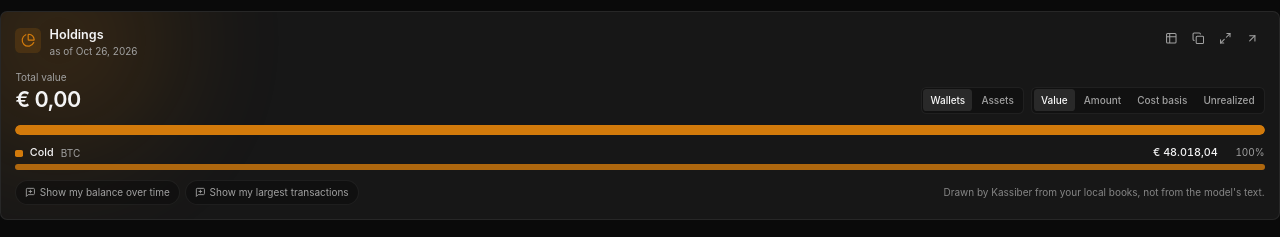
Test: ChatVisual controls › switches to the table twin and back
Step 1. Click the button named "Show data as a table" → (1171, 39), box x1=1158 y1=26 x2=1184 y2=51
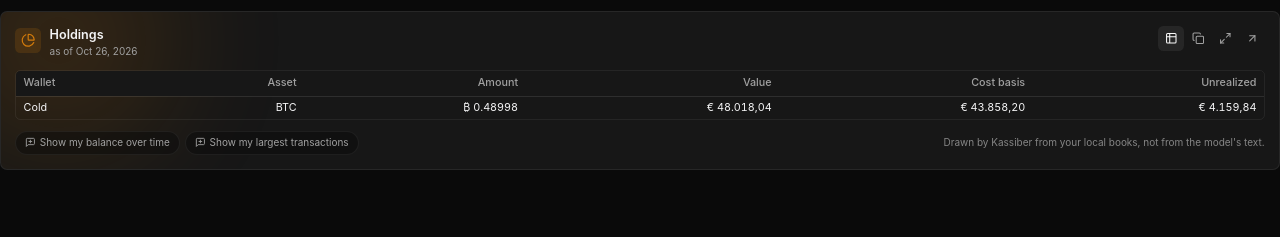
Expected: the column heading "Wallet" is shown, x1=16 y1=71 x2=164 y2=97
Result: the table is shown at x1=16 y1=71 x2=1264 y2=119
Step 2. Click the button named "Show the chart" → (1171, 39), box x1=1158 y1=26 x2=1184 y2=51
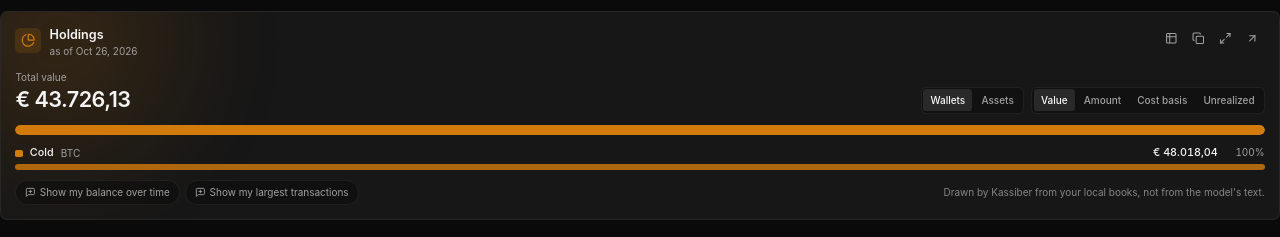
Result: the table is gone
